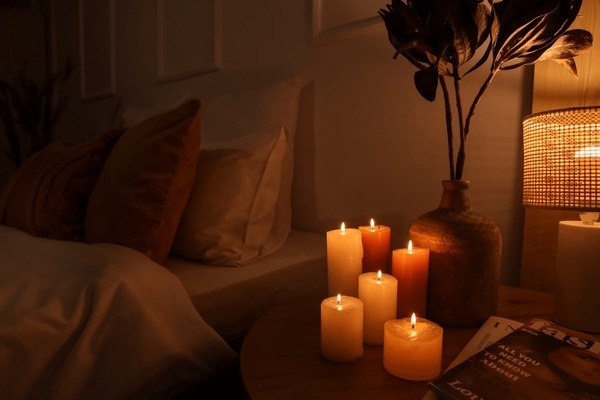Open-Flame-Hazard: (315, 206, 454, 379), (553, 136, 600, 223)
